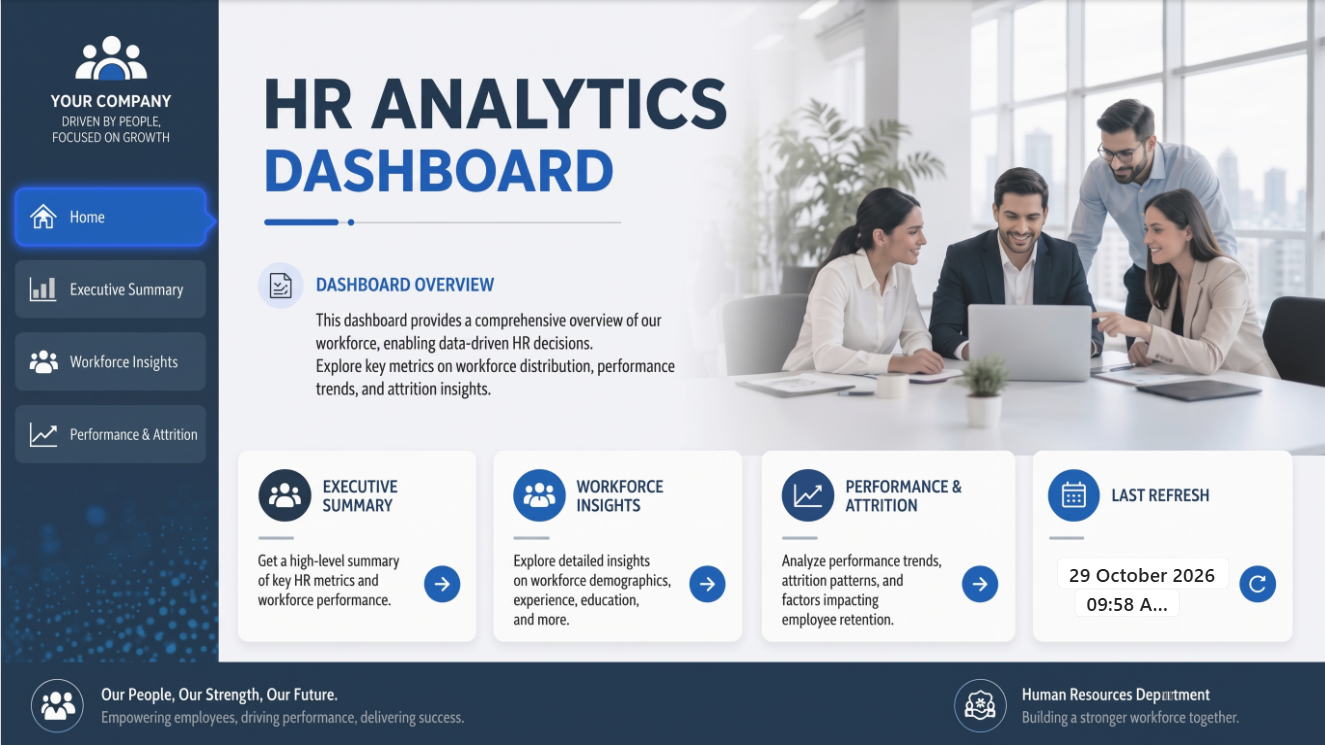

This screenshot's page, from the dashboard's own definition file:
{"tool":"powerbi","page":{"name":"Home","canvas":[1920,1080],"ordinal":3},"visuals":[{"type":"actionButton","box":[22,272,274,84],"z":0},{"type":"actionButton","box":[22,380,274,84],"z":1000},{"type":"actionButton","box":[22,484,274,84],"z":2000},{"type":"actionButton","box":[22,582,274,84],"z":3000},{"type":"actionButton","box":[342,650,346,278],"z":4000},{"type":"actionButton","box":[714,650,358,278],"z":5000},{"type":"actionButton","box":[1102,652,370,278],"z":6000},{"type":"actionButton","box":[1492,652,376,278],"z":7000},{"type":"cardVisual","fields":{"Data":["Last Refresh.Last Refresh Date"]},"box":[1529.2,807.1,249.7,45.2],"z":7001},{"type":"cardVisual","fields":{"Data":["Last Refresh.Last Refresh Time"]},"box":[1554,852.4,152.8,41.2],"z":7002}]}

Visuals, with their boxes in screenshot pixels (x1, y1, x2, y2), scaled from the page's 1920x1080 canvas onto the 1325x745 screenshot:
actionButton: (x1=15, y1=188, x2=204, y2=246)
actionButton: (x1=15, y1=262, x2=204, y2=320)
actionButton: (x1=15, y1=334, x2=204, y2=392)
actionButton: (x1=15, y1=401, x2=204, y2=459)
actionButton: (x1=236, y1=448, x2=475, y2=640)
actionButton: (x1=493, y1=448, x2=740, y2=640)
actionButton: (x1=760, y1=450, x2=1016, y2=642)
actionButton: (x1=1030, y1=450, x2=1289, y2=642)
cardVisual - Last Refresh.Last Refresh Date: (x1=1055, y1=557, x2=1228, y2=588)
cardVisual - Last Refresh.Last Refresh Time: (x1=1072, y1=588, x2=1178, y2=616)
